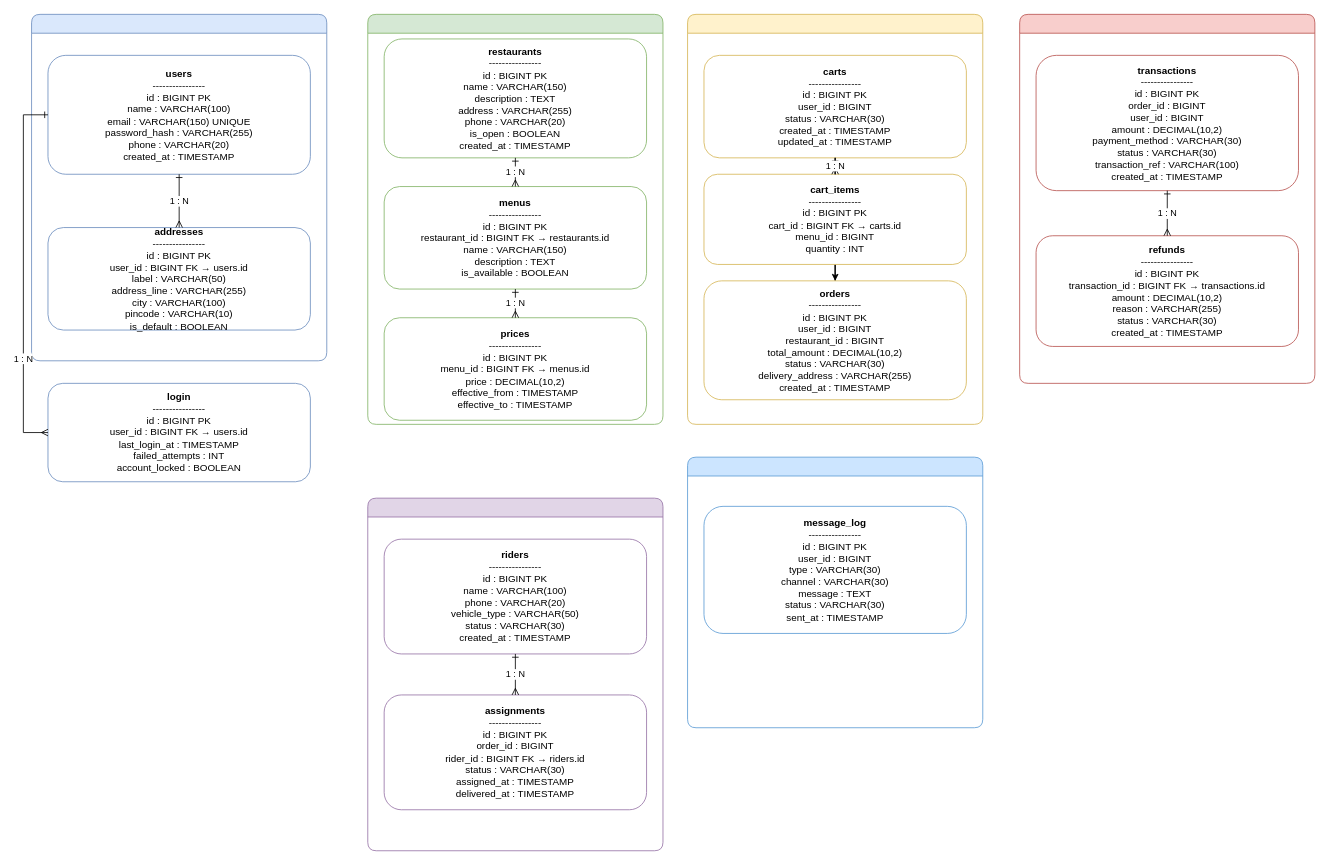
Image size: 1329x865. Some labels were removed from this diagram. The shapes that lost their labels are listed below. From the top down, each one's box as (x1, y1, x2, y2) in pixels, then its label:
(31, 14, 327, 361): ACCOUNTS SERVICE
(1019, 14, 1315, 383): PAYMENTS SERVICE
(367, 14, 663, 424): CATALOGUE SERVICE
(687, 14, 983, 424): ORDERS SERVICE
(687, 456, 983, 728): NOTIFICATIONS SERVICE
(367, 497, 663, 851): DELIVERY SERVICE
